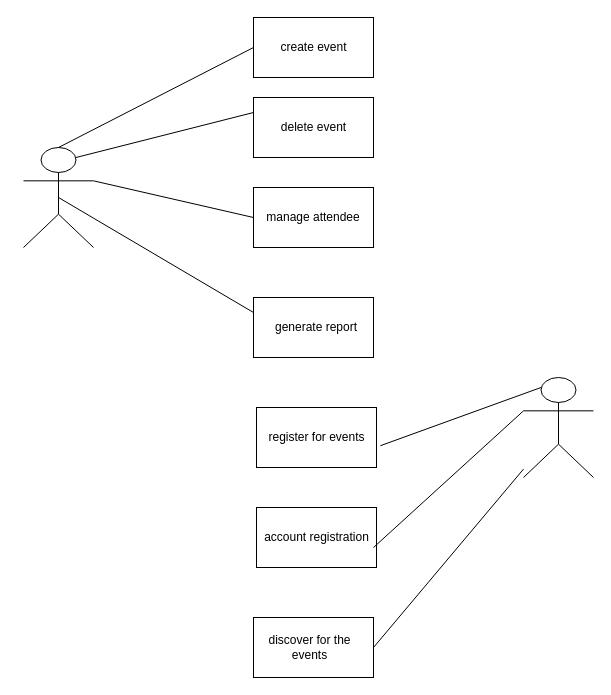
This 611x695 diagram has some shape labels left out. The centre of each missing label's shape, as x and y in pixels:
"attendee" belongs at [558,427].
"event organizer" belongs at [58,197].
